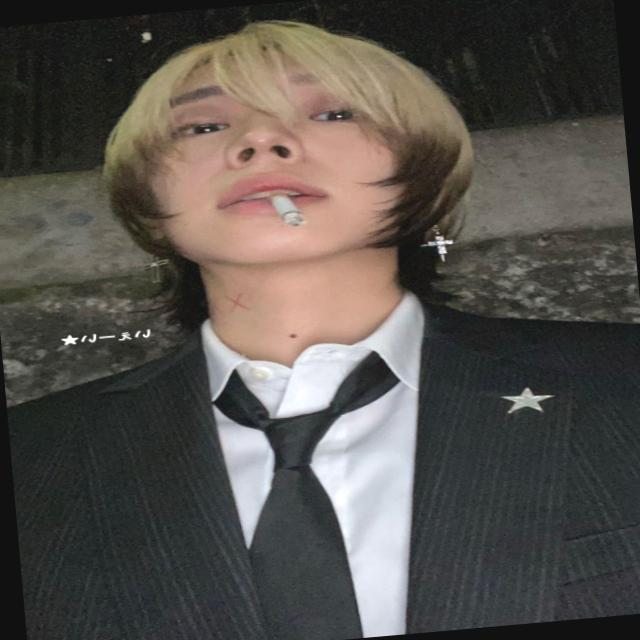smoke: (258, 178, 334, 236)
